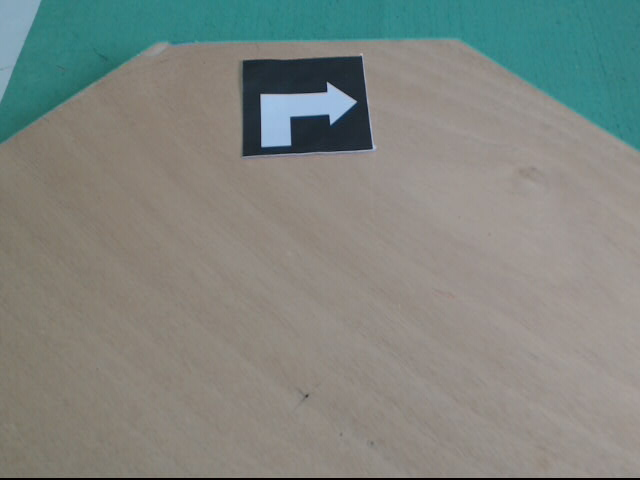right: (240, 55, 375, 158)
